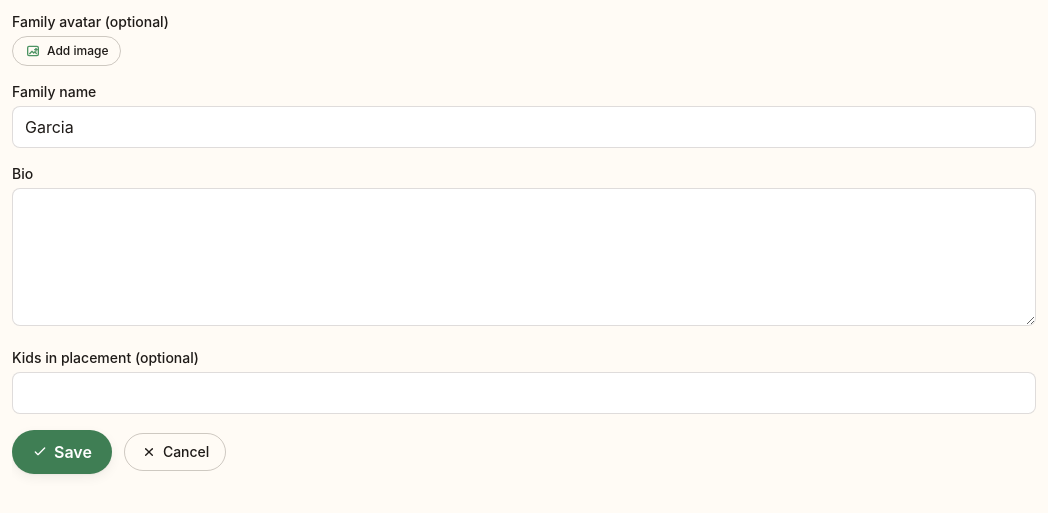
Test: FamilyEditForm › rejects kid count out of range with field-level error
This screenshot has width=1048, height=513.
Type "99" into the field labelled "Kids in placement (optional)" at (524, 393), box [12,372,1036,414]
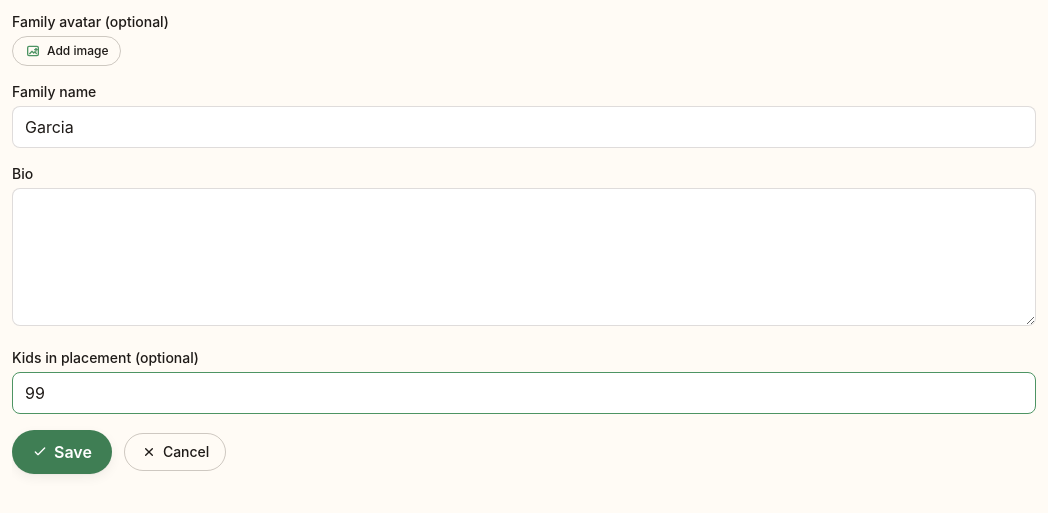
Click the button "Save" at (62, 452), box [12,430,112,474]
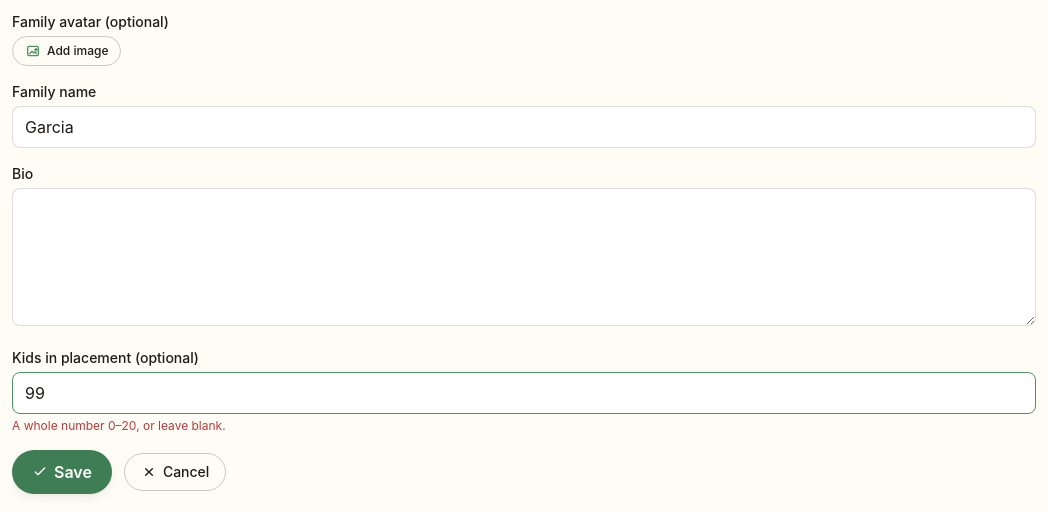
expect the text "A whole number 0–20, or leave blank." is shown: met, box [12,418,226,433]
